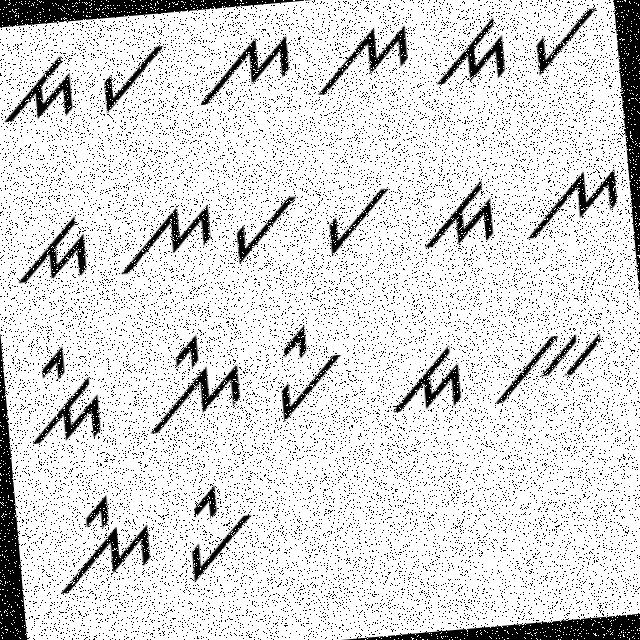da: (3, 204, 94, 295), (383, 335, 473, 427), (412, 176, 501, 262), (426, 11, 512, 91), (0, 46, 80, 132)
di: (21, 340, 109, 451)
na: (516, 151, 626, 250), (186, 23, 296, 115), (109, 198, 218, 284), (306, 16, 417, 100)
ni: (36, 478, 165, 600), (140, 331, 252, 443)
pa: (87, 35, 175, 122), (523, 0, 608, 86), (314, 176, 398, 258), (228, 185, 304, 271)
pi: (170, 471, 262, 584), (263, 320, 349, 424)
